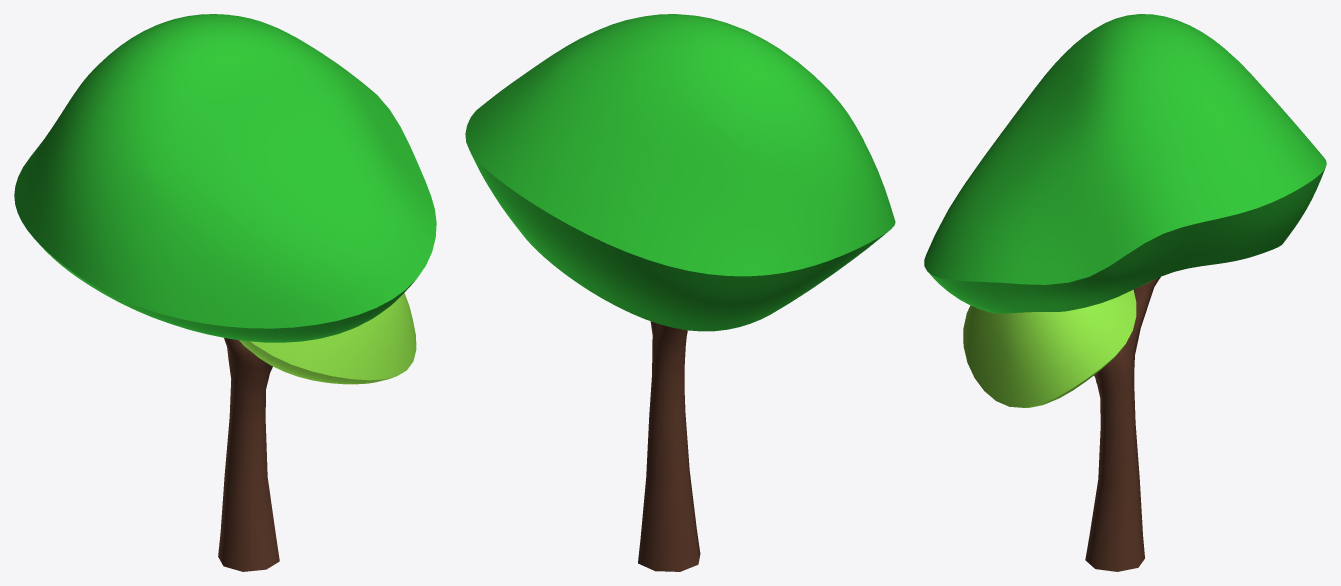
Rendered from tree_06.fbx.
3 views of the same model, side by side, from view 1: azimuth 30°, elevation 25°; view 2: azimuth 150°, elevation 25°; view 3: azimuth 270°, elevation 25° (orthographic). The views are drawn at different scales.
Parts seen in each view (by area): view 1: tree3_Icosphere.005; view 2: tree3_Icosphere.005; view 3: tree3_Icosphere.005.
Boxes of the visible parts, left/top/right/bottom form: tree3_Icosphere.005: left=14, top=14, right=436, bottom=571; tree3_Icosphere.005: left=465, top=14, right=895, bottom=571; tree3_Icosphere.005: left=924, top=14, right=1326, bottom=571.
Bounding box in the file's own units: 500 × 709 × 503.
